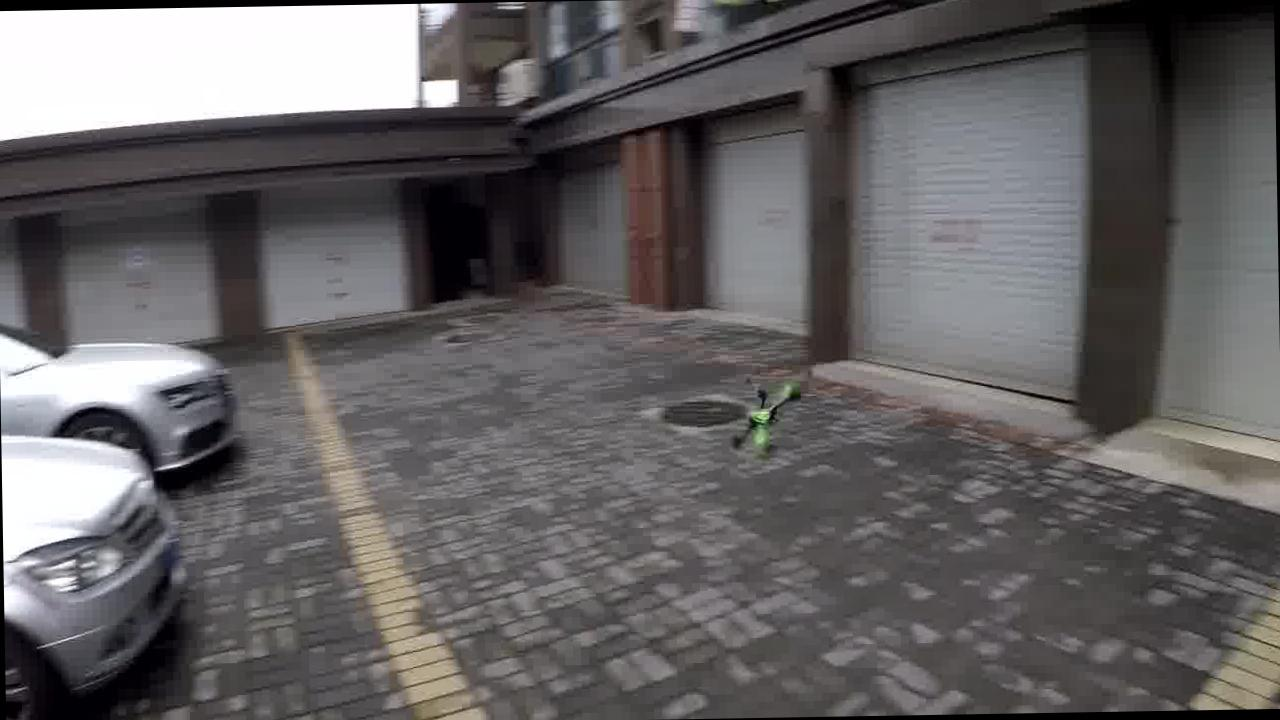drone: (719, 367, 816, 462)
